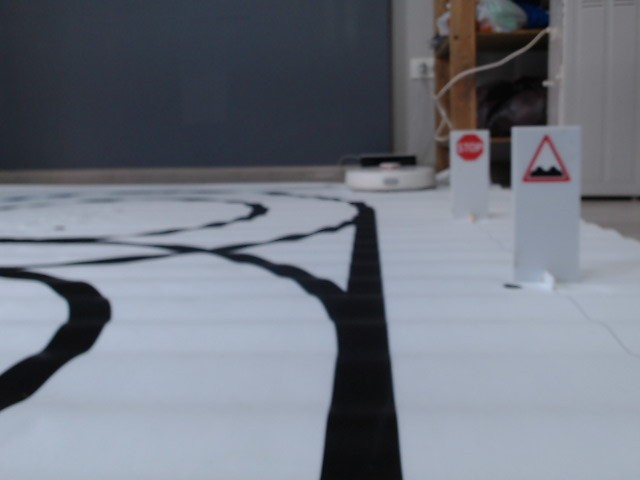Nerov: (522, 134, 573, 184)
Stop: (456, 133, 484, 160)
